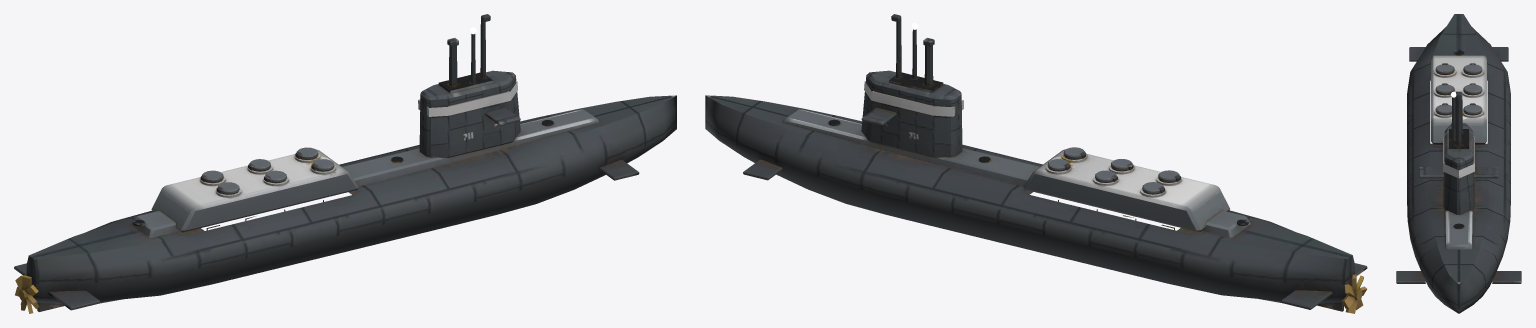
Rendered from msub.soviet.glb.
The picture shows the model from 3 angles, left to right: view 1: azimuth 30°, elevation 25°; view 2: azimuth 150°, elevation 25°; view 3: azimuth 270°, elevation 25°; orthographic projection. The views are drawn at different scales.
Visible parts, largest first — view 1: hull_mesh, masts_mesh, prop_mesh; view 2: hull_mesh, masts_mesh, prop_mesh; view 3: hull_mesh, masts_mesh, hatch2_mesh, hatch0_mesh, hatch1_mesh, hatch3_mesh, hatch4_mesh, hatch5_mesh.
Part boxes in pixels (bbox=[...]): hull_mesh: bbox=[14, 70, 676, 311]; masts_mesh: bbox=[447, 14, 490, 86]; prop_mesh: bbox=[15, 275, 38, 313]; hull_mesh: bbox=[705, 70, 1367, 311]; masts_mesh: bbox=[891, 14, 934, 86]; prop_mesh: bbox=[1341, 274, 1366, 313]; hull_mesh: bbox=[1396, 14, 1521, 313]; masts_mesh: bbox=[1451, 91, 1462, 146]; hatch2_mesh: bbox=[1463, 83, 1482, 94]; hatch0_mesh: bbox=[1463, 63, 1482, 74]; hatch1_mesh: bbox=[1435, 63, 1454, 74]; hatch3_mesh: bbox=[1435, 83, 1454, 94]; hatch4_mesh: bbox=[1463, 103, 1482, 114]; hatch5_mesh: bbox=[1435, 103, 1451, 114].
Size of the model in its own units: 1.52 by 0.436 by 0.29.
Materials: 2 (1 with a texture image).
